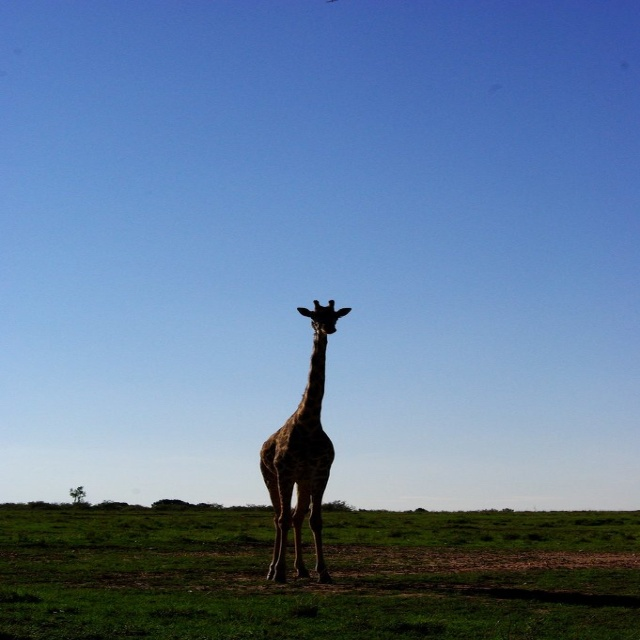Giraffe: (260, 297, 350, 580)
